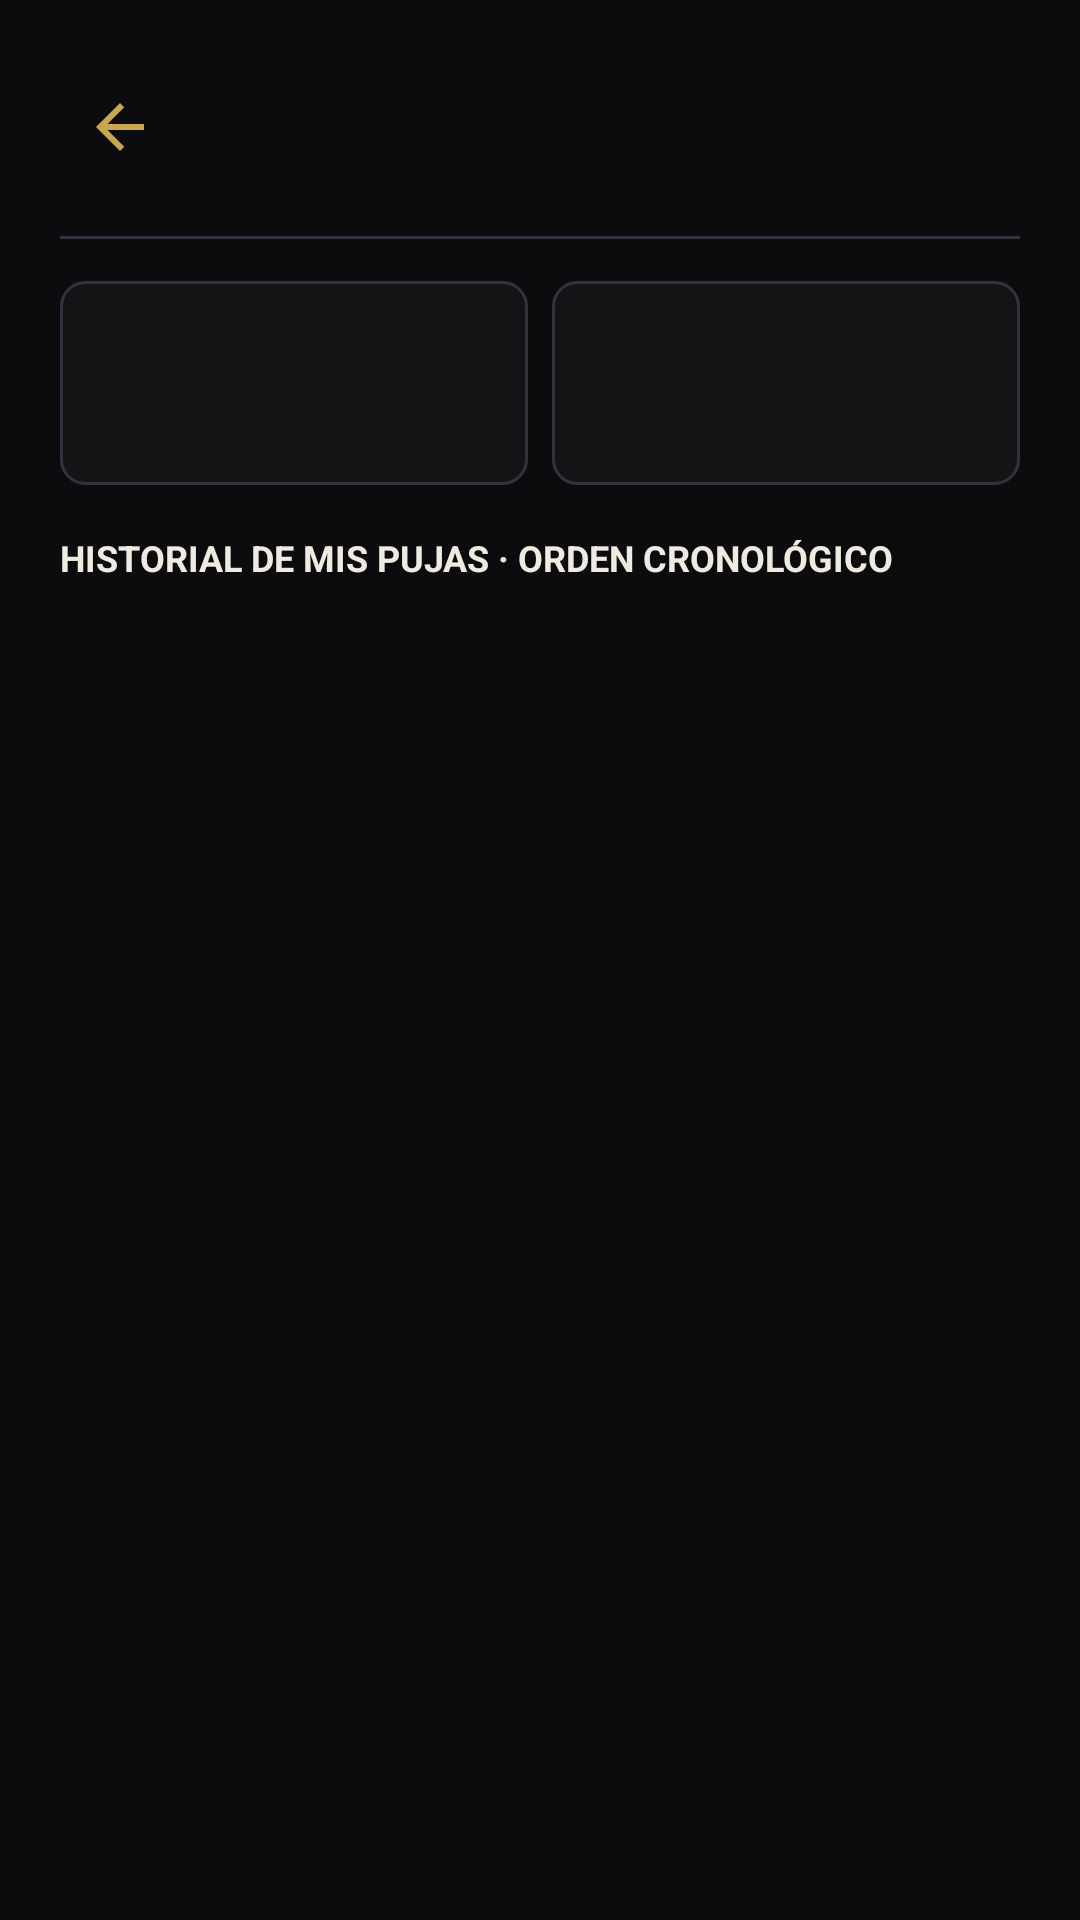

Locate icon controls on the screen. Image size 1080×1920, boxes as (x1, y1, x2, y2).
Volver: (96, 103, 144, 151)
